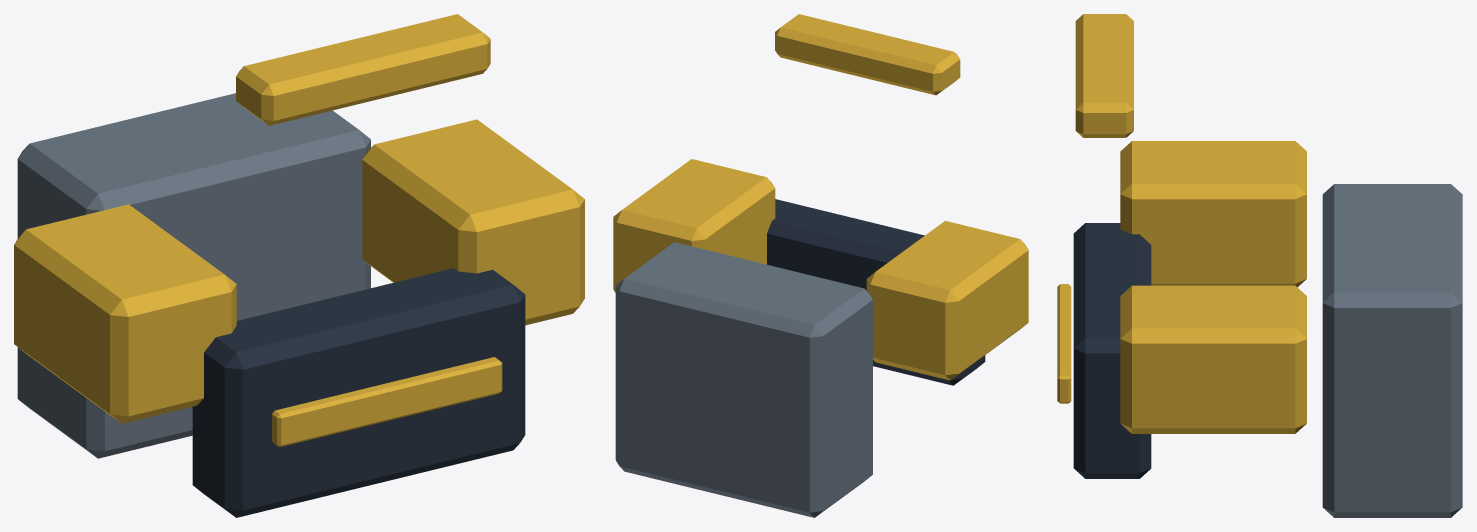
The model's file is exosuit.glb.
3 renders of one model, left to right at view 1: azimuth 30°, elevation 25°; view 2: azimuth 150°, elevation 25°; view 3: azimuth 270°, elevation 25°, orthographic. The views are drawn at different scales.
Parts seen in each view (by area): view 1: exosuit_torso, exosuit_head; view 2: exosuit_torso, exosuit_head; view 3: exosuit_torso, exosuit_head.
Boxes of the visible parts, box(x1,y1,x2,y2) form: exosuit_torso: box(14, 93, 584, 517); exosuit_head: box(236, 14, 490, 125); exosuit_torso: box(613, 159, 1028, 517); exosuit_head: box(775, 14, 960, 95); exosuit_torso: box(1057, 141, 1462, 517); exosuit_head: box(1075, 14, 1133, 137).
Size of the model in its own units: 0.6 by 0.575 by 0.521.
